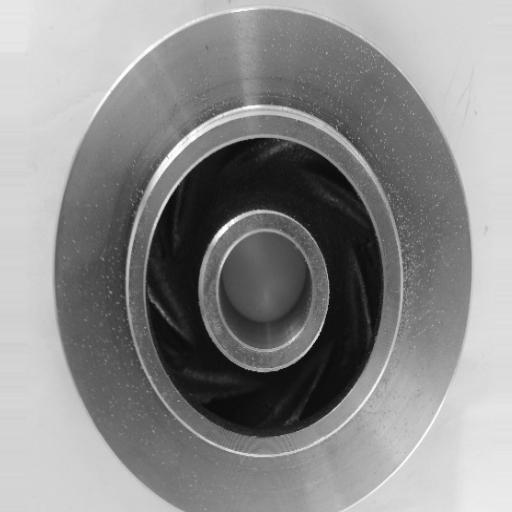polished_casting: (54, 9, 471, 512)
